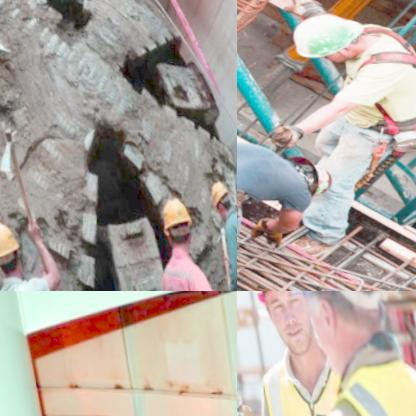helmet: (277, 291, 392, 370), (243, 291, 331, 364), (282, 6, 370, 64), (152, 190, 192, 250), (285, 149, 333, 198), (0, 214, 20, 280), (202, 174, 231, 216)
